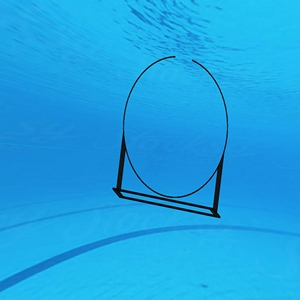circle: (111, 54, 229, 219)
